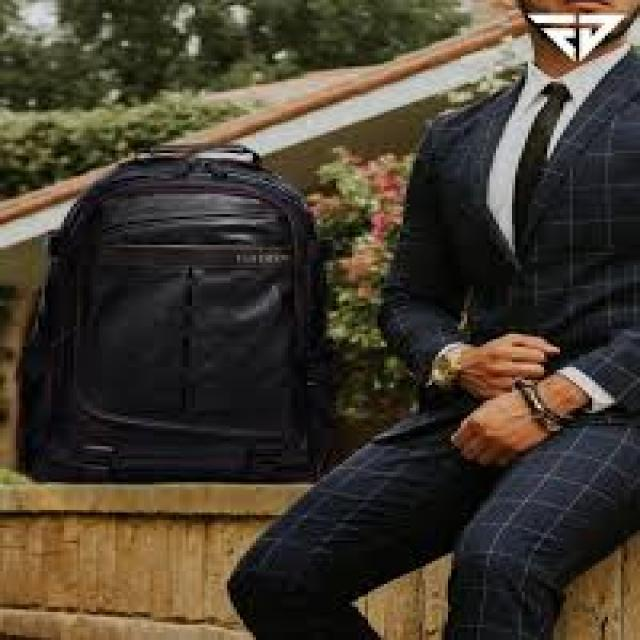backpack: (14, 144, 337, 485)
